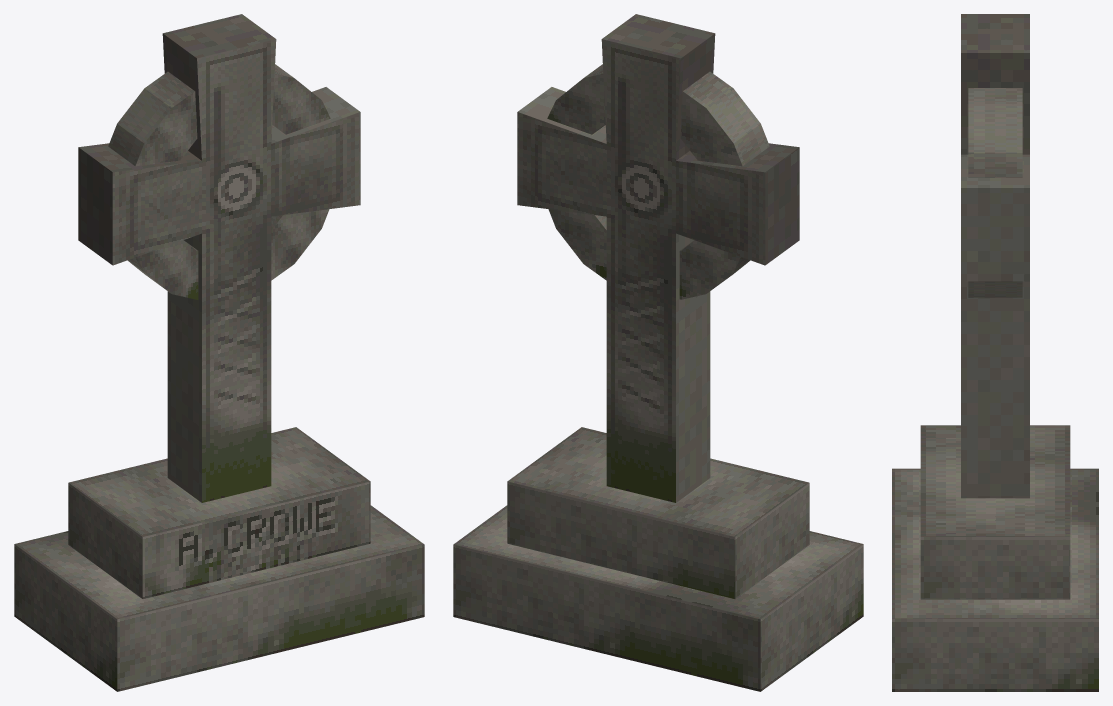
The model's file is gravestone_cross.glb.
3 renders of one model, left to right at view 1: azimuth 30°, elevation 25°; view 2: azimuth 150°, elevation 25°; view 3: azimuth 270°, elevation 25°, orthographic.
Visible parts, largest first — view 1: gravestone_cross; view 2: gravestone_cross; view 3: gravestone_cross.
Part boxes in pixels (box(x1,y1,x2,y2)): gravestone_cross: box(14, 14, 424, 691); gravestone_cross: box(453, 14, 863, 691); gravestone_cross: box(892, 14, 1098, 691).
Bounding box in the file's own units: 0.62 × 1.12 × 0.36.
Materials: 1 (1 with a texture image).
